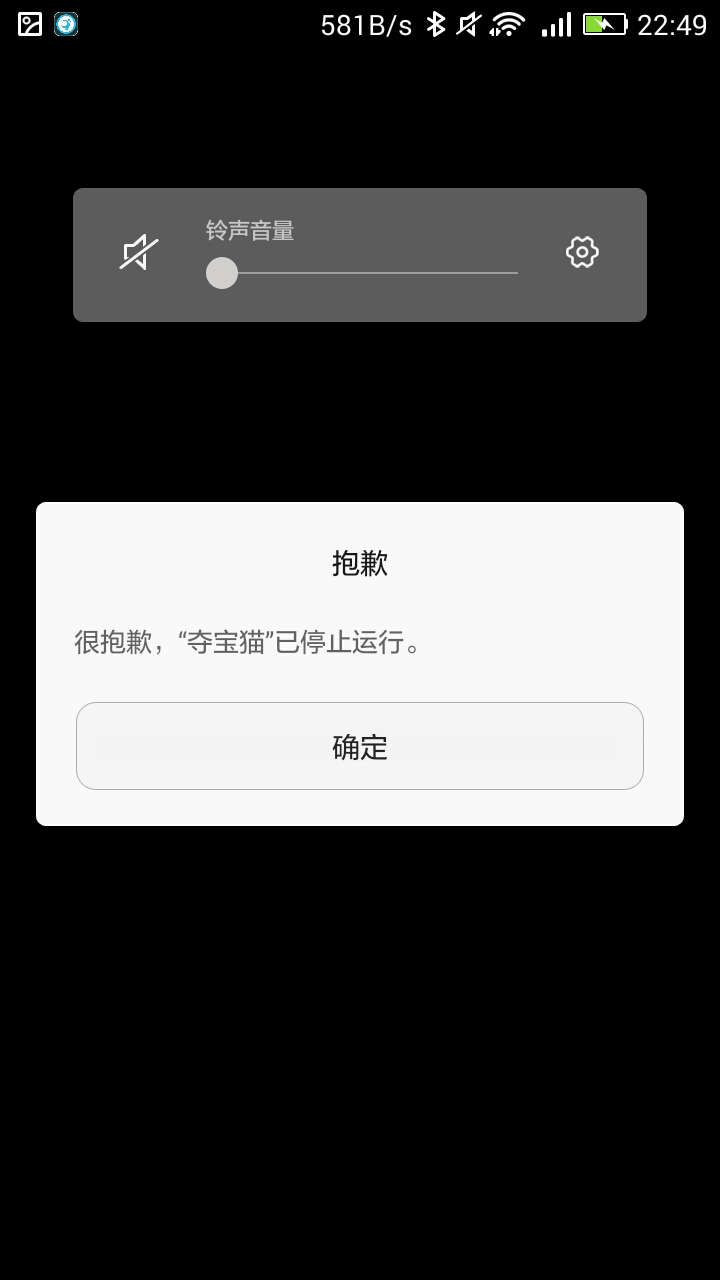alert: (22, 491, 703, 842), (71, 180, 654, 333)
button: (64, 701, 660, 805)
